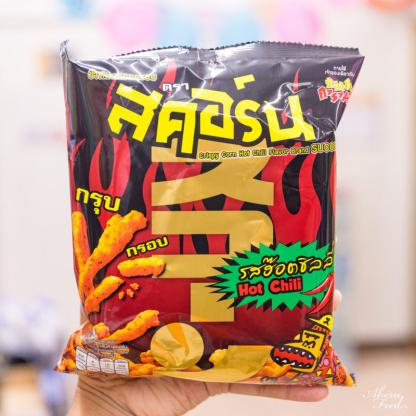potatochip: (49, 35, 371, 391)
